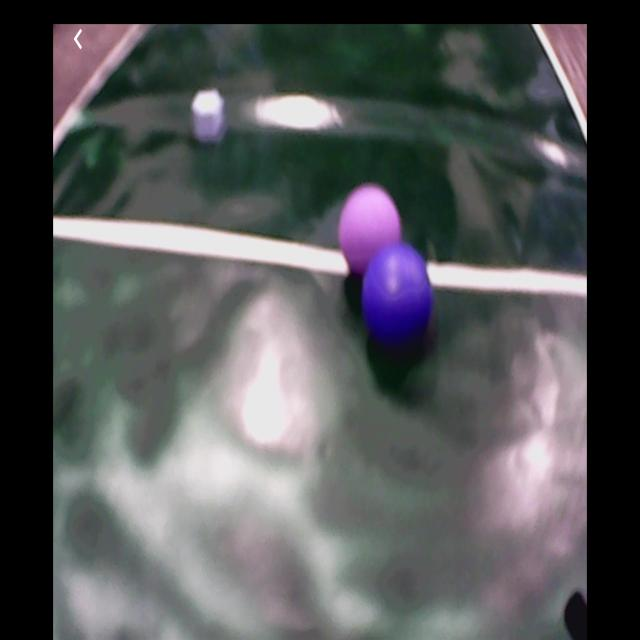ball: (364, 249, 434, 338), (341, 182, 405, 276)
